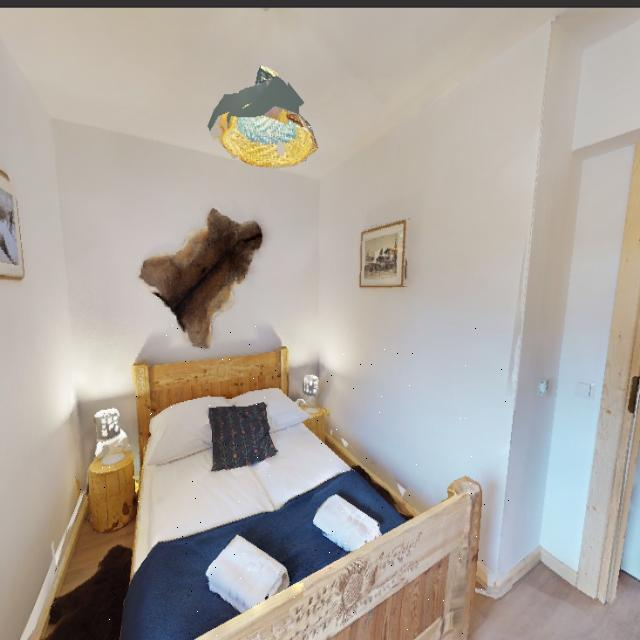bed: (78, 321, 511, 640)
